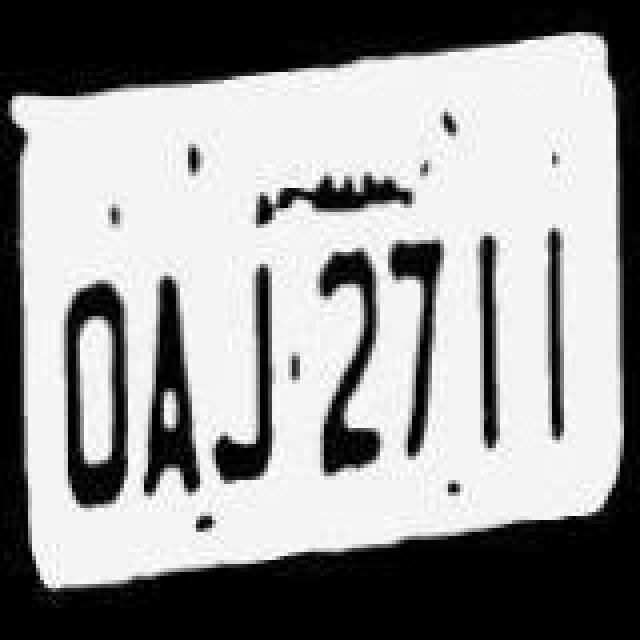1: (528, 208, 580, 460), (466, 220, 514, 472)
2: (302, 236, 374, 500)
7: (384, 216, 452, 480)
A: (138, 244, 202, 496)
J: (200, 242, 276, 498)
O: (54, 248, 134, 516)
